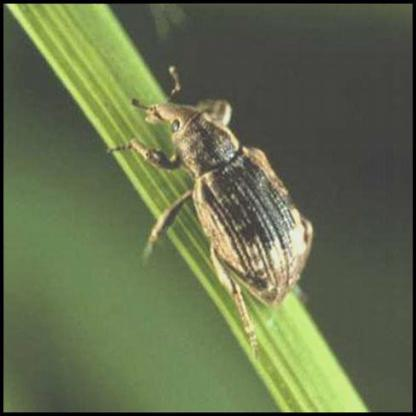rice-bug: (135, 86, 321, 309)
